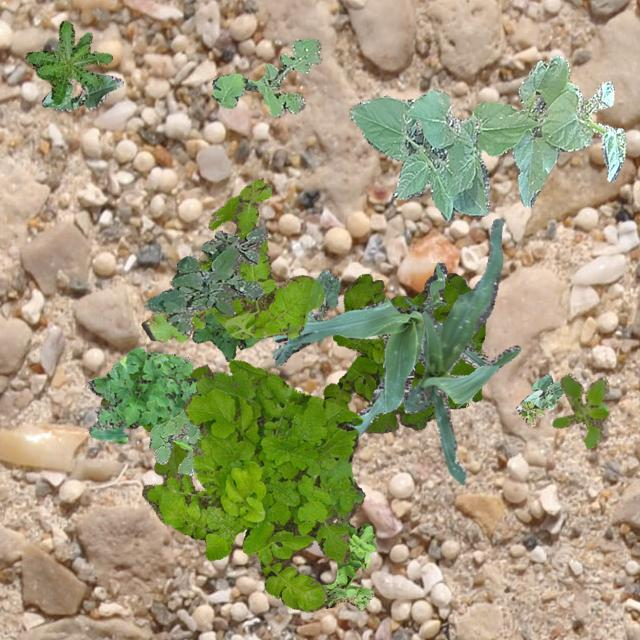crop: (348, 54, 624, 220), (272, 260, 488, 436), (402, 217, 520, 483), (40, 72, 121, 110), (304, 268, 340, 322), (514, 372, 562, 410)
weed: (140, 358, 364, 610), (140, 176, 322, 342), (322, 272, 484, 432), (144, 225, 266, 334), (100, 363, 210, 478), (88, 346, 196, 449), (210, 38, 320, 116), (24, 20, 111, 104), (320, 518, 374, 610), (552, 372, 608, 448), (192, 312, 264, 361), (148, 408, 200, 474), (518, 400, 544, 426)
